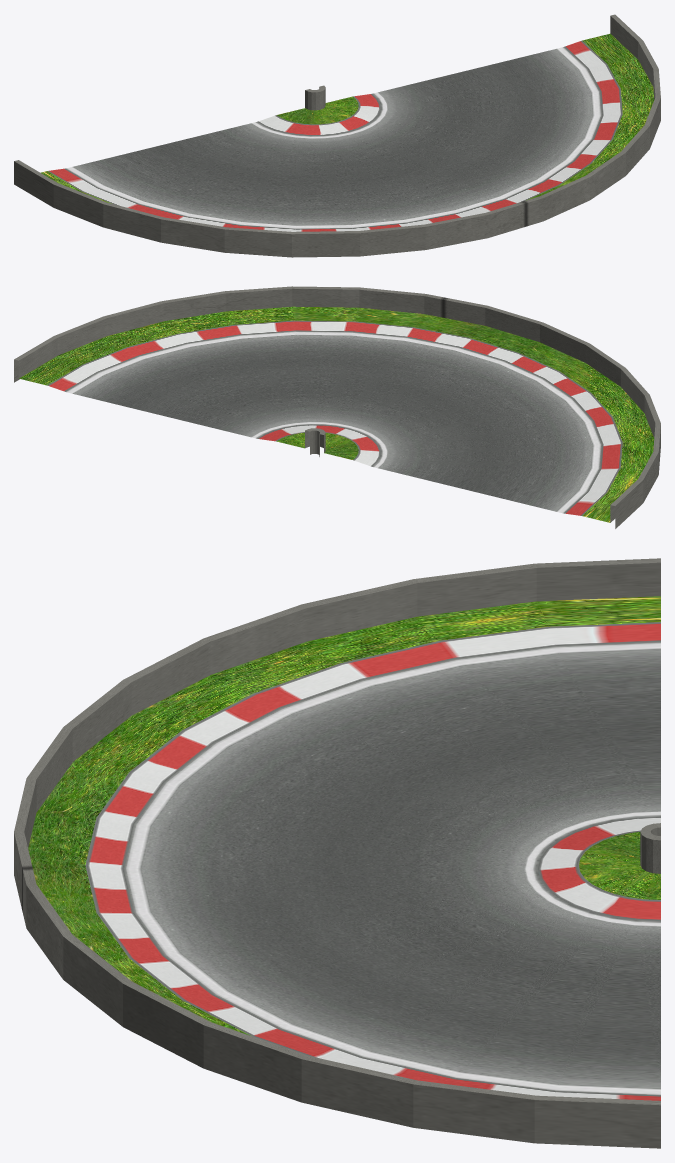
Rendered from turn_180.fbx.
3 views of the same model, one above another, from view 1: azimuth 30°, elevation 25°; view 2: azimuth 150°, elevation 25°; view 3: azimuth 270°, elevation 25° (orthographic). The views are drawn at different scales.
Parts seen in each view (by area): view 1: 13; view 2: 13; view 3: 13.
Part boxes in pixels (x1,y1,x2,y2): 13: (14,14,660,257); 13: (14,286,660,528); 13: (14,558,660,1148).
Bounding box in the file's own units: 360 × 13.35 × 180.
